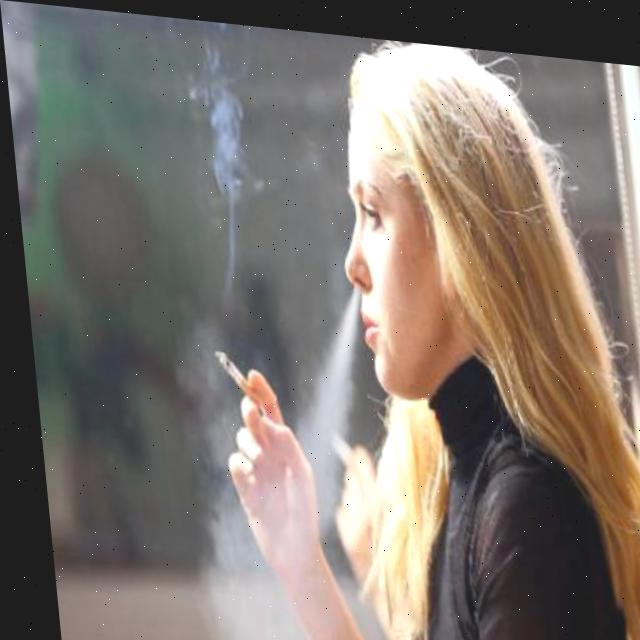cigarette: (205, 342, 253, 401)
